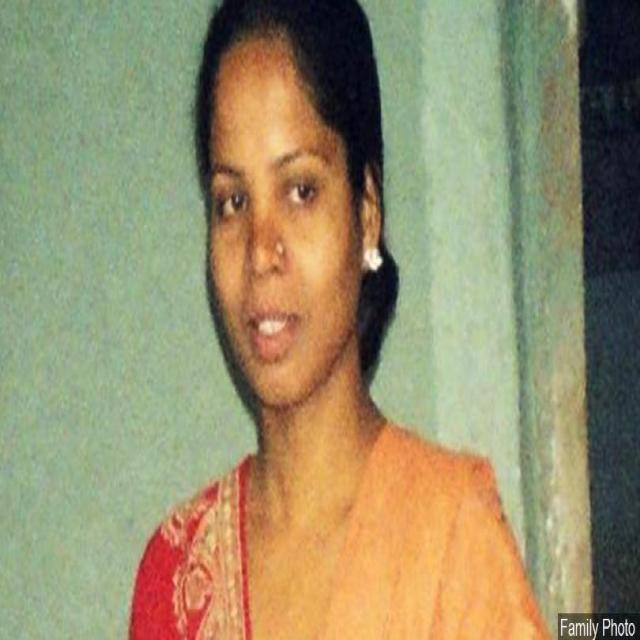human: (135, 4, 552, 640)
